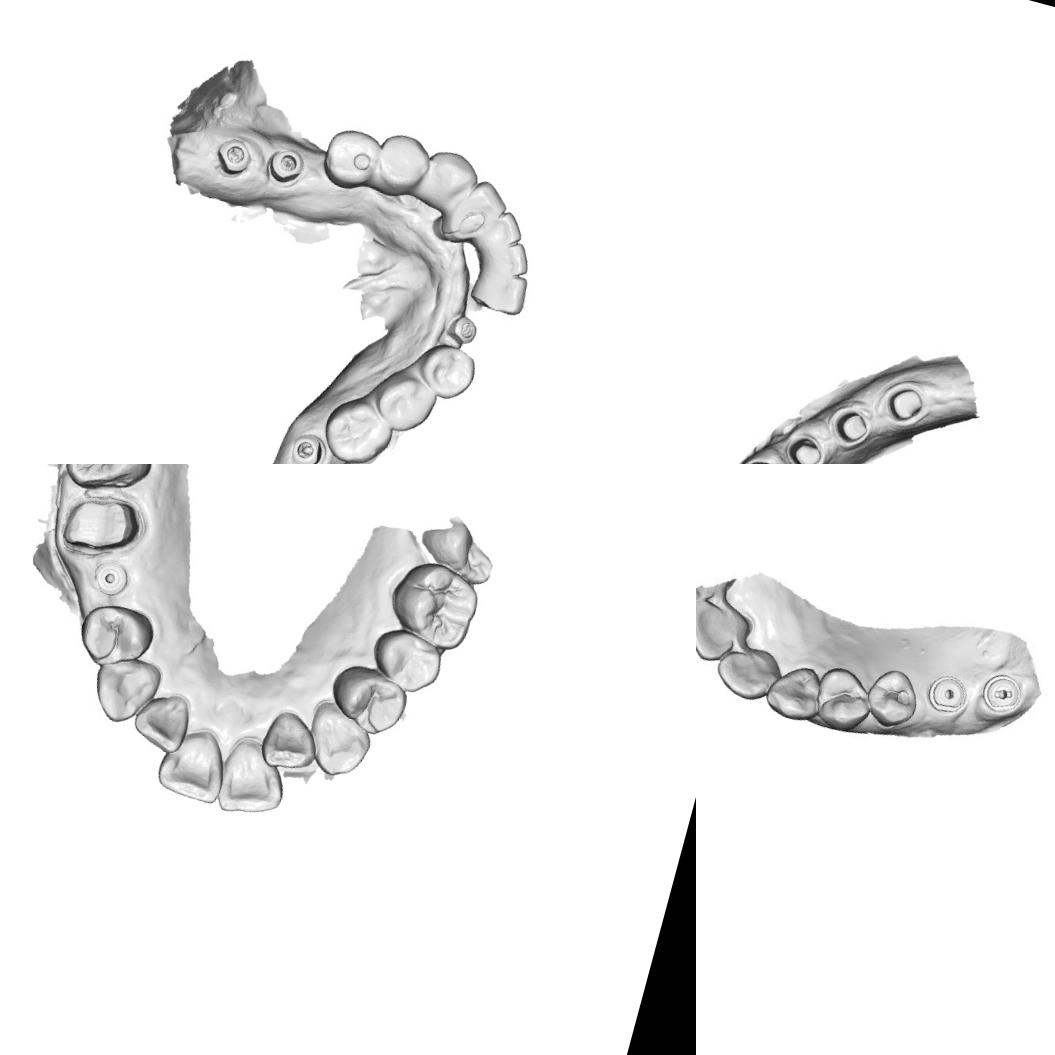abutment: (884, 382, 927, 426), (832, 407, 872, 446), (784, 432, 825, 464)
canine: (82, 648, 162, 732), (298, 700, 376, 781), (416, 145, 483, 218), (760, 656, 825, 726)
crown: (59, 489, 143, 560)
implant: (262, 141, 309, 190), (90, 554, 136, 604), (210, 133, 256, 180), (924, 672, 968, 713), (283, 428, 327, 464), (443, 310, 481, 348)
implant_minus: (974, 670, 1024, 721)
incisor: (210, 730, 296, 825), (152, 722, 234, 808), (128, 688, 196, 758), (256, 706, 322, 776), (710, 641, 776, 704), (696, 589, 746, 670), (454, 176, 512, 241), (465, 264, 529, 319), (477, 206, 526, 256), (492, 236, 534, 282)
molar: (378, 554, 486, 655), (316, 389, 399, 464), (57, 464, 159, 501)
premolar: (319, 658, 412, 742), (361, 622, 446, 700), (74, 596, 158, 674), (366, 363, 442, 438), (807, 662, 876, 736), (316, 122, 384, 196), (368, 128, 434, 203), (860, 661, 926, 734), (411, 338, 480, 404)
